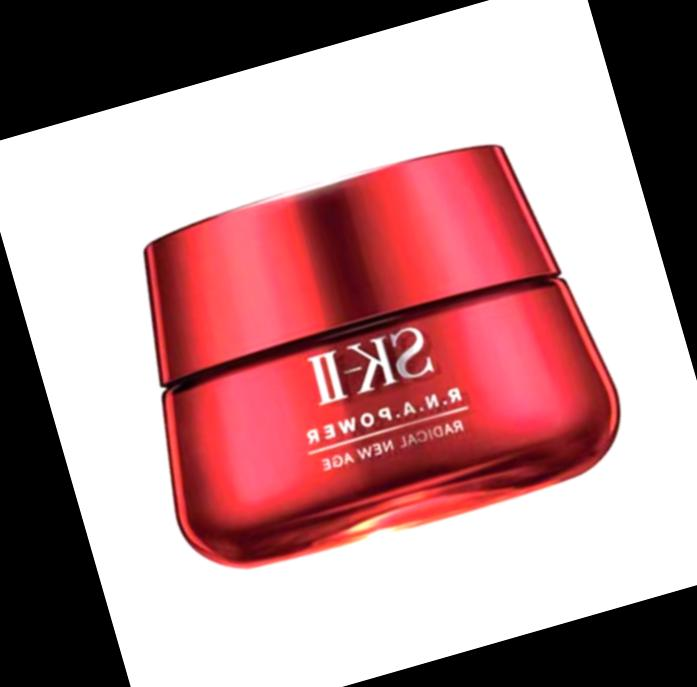cosmetic: (111, 125, 621, 574)
